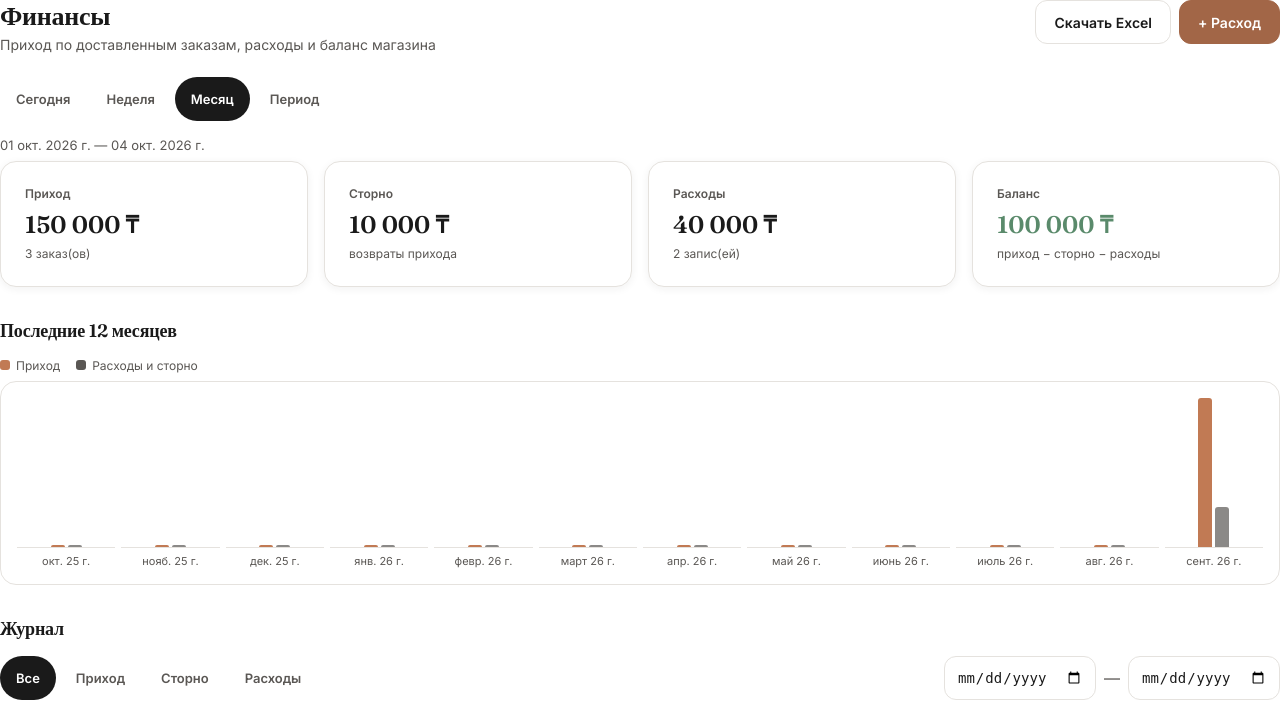
Test: adding an expense › keeps the form open and shows what the server said
Click the button "+ Расход" at (1230, 22), box [1179,0,1279,44]
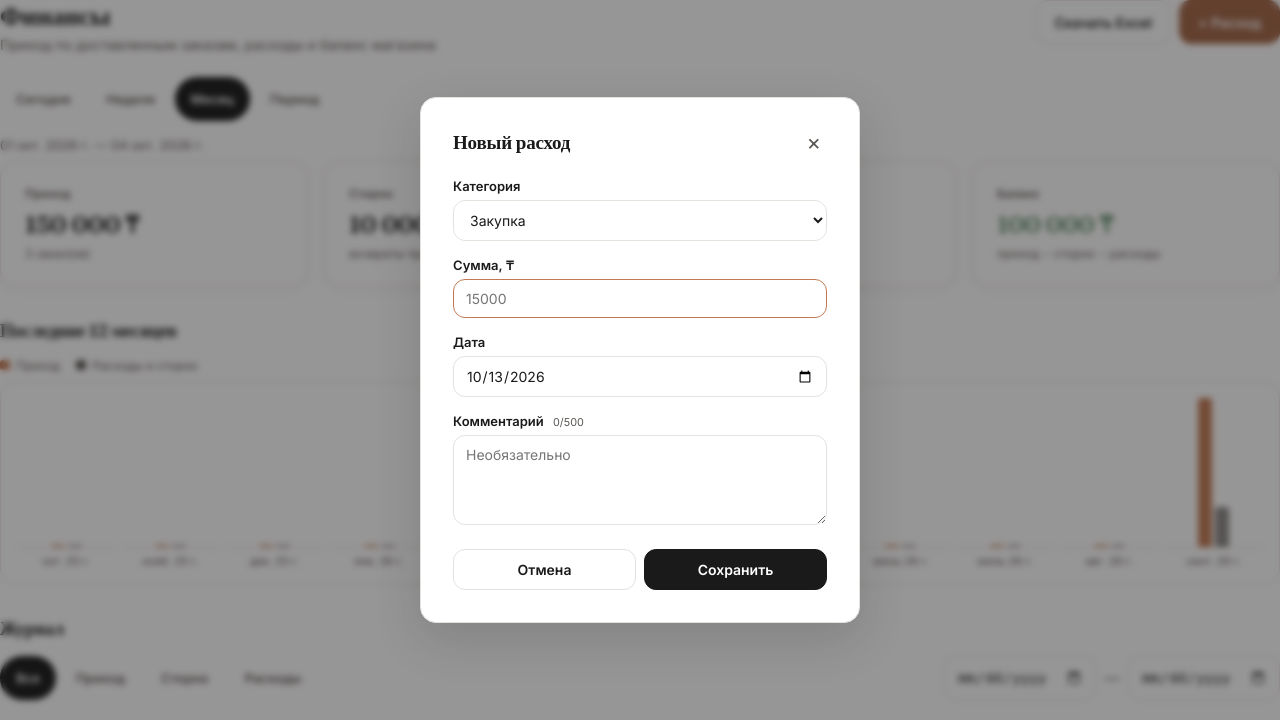
Type "500" into the field with placeholder "15000" at (640, 298), box [453,279,827,318]
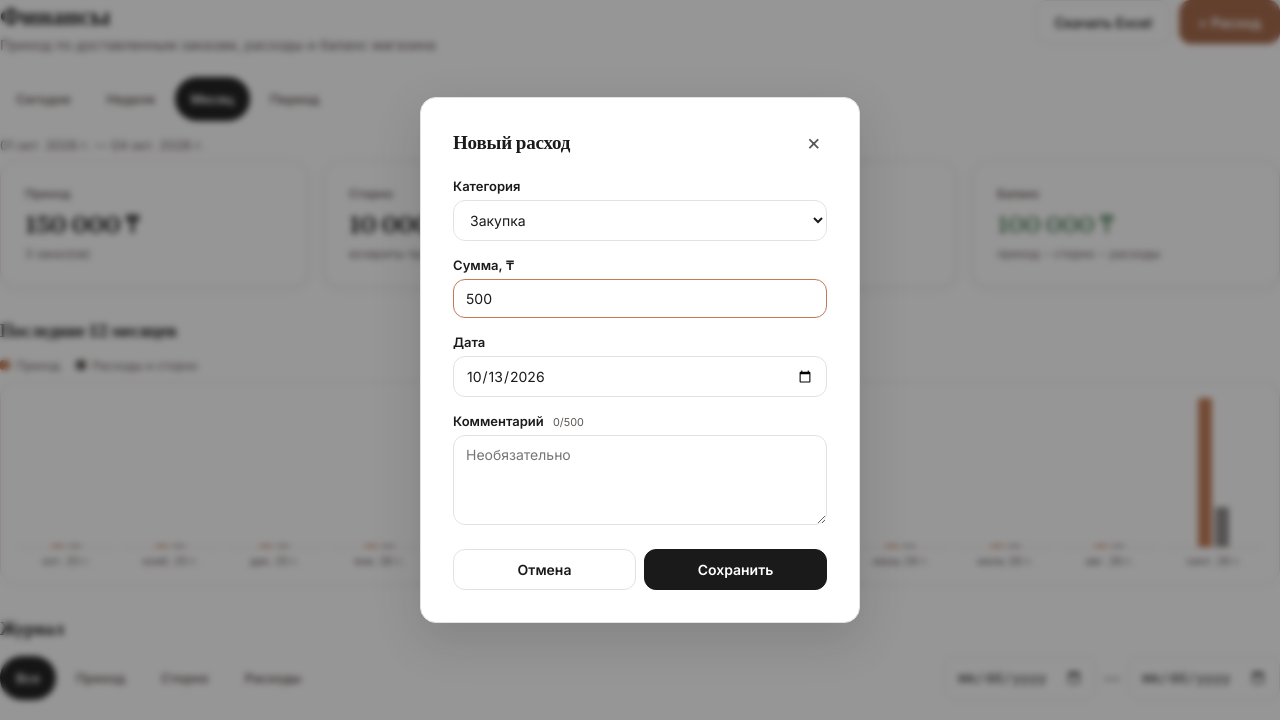
Click the button "Сохранить" at (736, 570), box [644,549,827,590]
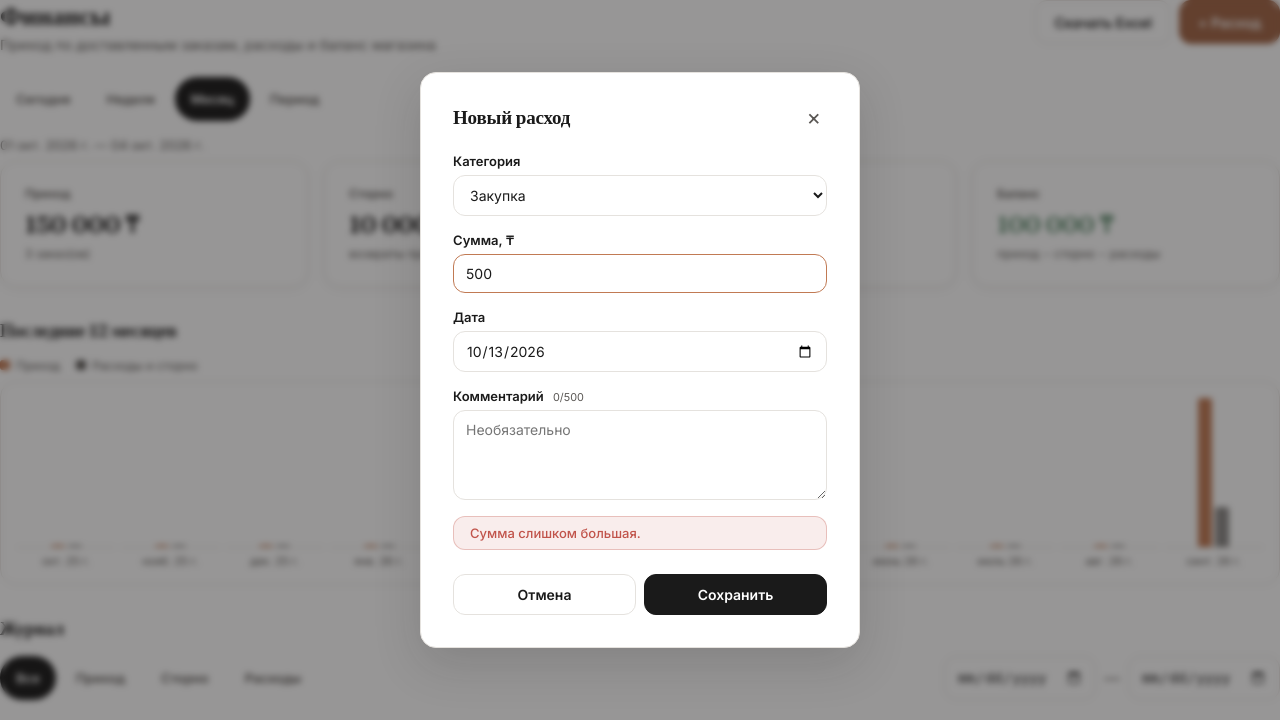
Now the dialog is shown, box [420,72,860,648]
Now the message "Сумма слишком большая." is shown, box [453,516,827,550]
